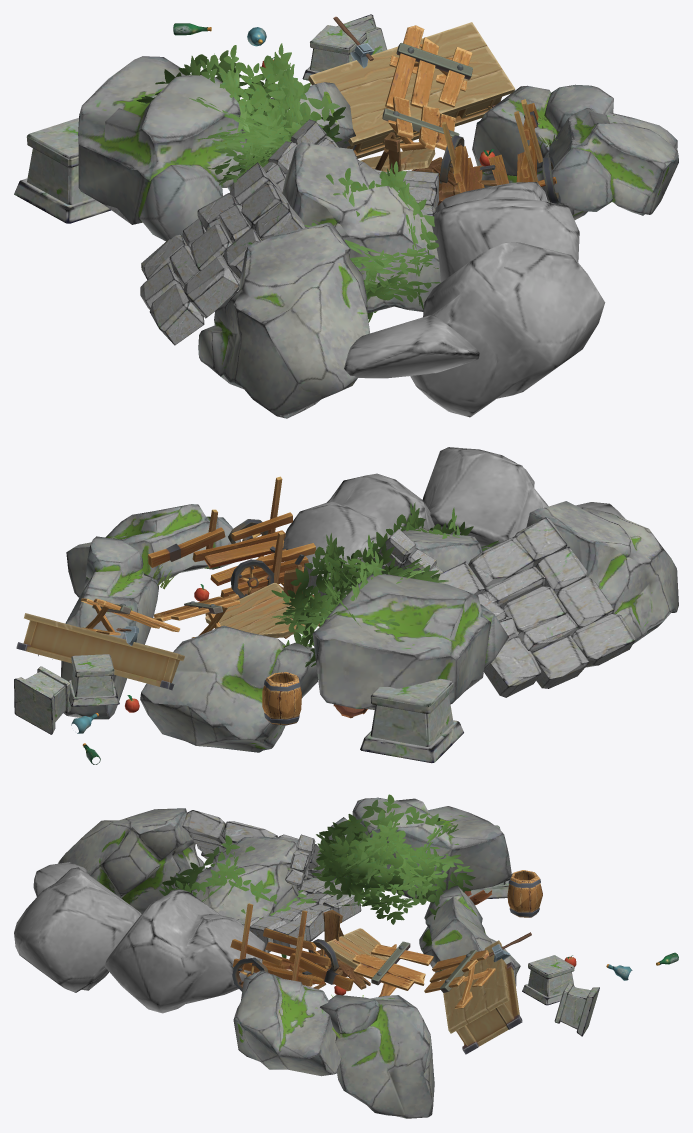
File: MainCityDecor_Tavern_Ruins.glb
The picture shows the model from 3 angles, top to bottom: view 1: azimuth 30°, elevation 25°; view 2: azimuth 150°, elevation 25°; view 3: azimuth 270°, elevation 25°; orthographic projection. The views are drawn at different scales.
Visible parts, largest first — view 1: SM_Gray_Stone_Small_01_LOD0__un91797718654638967, SM_Gray_Stone_Small_03_LOD0__un3192007238892772215, EnvCampsite_Detail__Stone__8_1__u8339313355967505545, EnvCampsite_Detail__Brickwall__2__un2714917057543723895, SM_Gray_Stone_Small_01_LOD0__un8062168838140386167, SM_Gray_Stone_Small_03_LOD0__u8774736984265729161, EnvDetail__Bush___20_14__un40779478230817655, EnvMaincity_Detail__Table___1__u5153780852211655817, EnvCampsite_Detail__Stone__8__u2463987053071574153, EnvCampsite_Detail__Table__2__un1558855194253056887, SM_Gray_Stone_Small_03_LOD0__u4738002444597208201, EnvCampsite_Detail__Stone__9__un2701499769548036983 (+10 smaller); view 2: SM_Gray_Stone_Small_03_LOD0__un3192007238892772215, EnvCampsite_Detail__Brickwall__2__un2714917057543723895, SM_Gray_Stone_Small_03_LOD0__u1834290540938863753, SM_Gray_Stone_Small_01_LOD0__un91797718654638967, EnvCampsite_Detail__Stone__8_1__u8339313355967505545, EnvCampsite_Detail__Stone__8__u2463987053071574153, EnvCampsite_Detail__Cart__1__un7314439637108579191, EnvDetail__Bush___20_14__un40779478230817655, SM_Gray_Stone_Small_03_LOD0__u4738002444597208201, EnvCampsite_Detail__Stele__7_2__u6694120133314421897, SM_Gray_Stone_Small_03_LOD0__u8774736984265729161, EnvMaincity_Detail__Table___1__u5153780852211655817 (+9 smaller); view 3: EnvCampsite_Detail__Stone__8__u2463987053071574153, EnvDetail__Bush___20_14__un40779478230817655, SM_Gray_Stone_Small_03_LOD0__u4738002444597208201, EnvCampsite_Detail__Stone__8_1__u8339313355967505545, SM_Gray_Stone_Small_01_LOD0__un91797718654638967, SM_Gray_Stone_Small_03_LOD0__u8774736984265729161, SM_Gray_Stone_Small_03_LOD0__un3192007238892772215, SM_Gray_Stone_Small_01_LOD0__un8062168838140386167, EnvMaincity_Detail__Table___1__u5153780852211655817, EnvCampsite_Detail__Cart__1__un7314439637108579191, EnvCampsite_Detail__Table__2__un1558855194253056887, SM_Gray_Stone_Small_03_LOD0__u1834290540938863753 (+10 smaller).
Part boxes in pixels (x1,y1,x2,y2): SM_Gray_Stone_Small_01_LOD0__un91797718654638967: [198, 222, 369, 418]; SM_Gray_Stone_Small_03_LOD0__un3192007238892772215: [78, 56, 248, 241]; EnvCampsite_Detail__Stone__8_1__u8339313355967505545: [410, 242, 605, 417]; EnvCampsite_Detail__Brickwall__2__un2714917057543723895: [140, 162, 305, 345]; SM_Gray_Stone_Small_01_LOD0__un8062168838140386167: [282, 142, 440, 313]; SM_Gray_Stone_Small_03_LOD0__u8774736984265729161: [549, 108, 678, 215]; EnvDetail__Bush___20_14__un40779478230817655: [136, 43, 345, 185]; EnvMaincity_Detail__Table___1__u5153780852211655817: [308, 22, 515, 158]; EnvCampsite_Detail__Stone__8__u2463987053071574153: [432, 182, 579, 282]; EnvCampsite_Detail__Table__2__un1558855194253056887: [382, 25, 472, 161]; SM_Gray_Stone_Small_03_LOD0__u4738002444597208201: [472, 84, 613, 220]; EnvCampsite_Detail__Stone__9__un2701499769548036983: [344, 315, 479, 378]; SM_Gray_Stone_Small_03_LOD0__un3192007238892772215: [312, 573, 508, 709]; EnvCampsite_Detail__Brickwall__2__un2714917057543723895: [438, 517, 635, 697]; SM_Gray_Stone_Small_03_LOD0__u1834290540938863753: [140, 625, 317, 752]; SM_Gray_Stone_Small_01_LOD0__un91797718654638967: [526, 501, 678, 643]; EnvCampsite_Detail__Stone__8_1__u8339313355967505545: [422, 447, 548, 548]; EnvCampsite_Detail__Stone__8__u2463987053071574153: [282, 473, 434, 594]; EnvCampsite_Detail__Cart__1__un7314439637108579191: [148, 476, 315, 598]; EnvDetail__Bush___20_14__un40779478230817655: [271, 533, 448, 667]; SM_Gray_Stone_Small_03_LOD0__u4738002444597208201: [61, 536, 158, 719]; EnvCampsite_Detail__Stele__7_2__u6694120133314421897: [360, 678, 463, 763]; SM_Gray_Stone_Small_03_LOD0__u8774736984265729161: [66, 504, 240, 597]; EnvMaincity_Detail__Table___1__u5153780852211655817: [16, 613, 184, 690]; EnvCampsite_Detail__Stone__8__u2463987053071574153: [104, 889, 268, 1013]; EnvDetail__Bush___20_14__un40779478230817655: [311, 794, 475, 924]; SM_Gray_Stone_Small_03_LOD0__u4738002444597208201: [320, 994, 434, 1118]; EnvCampsite_Detail__Stone__8_1__u8339313355967505545: [14, 867, 141, 992]; SM_Gray_Stone_Small_01_LOD0__un91797718654638967: [58, 808, 205, 913]; SM_Gray_Stone_Small_03_LOD0__u8774736984265729161: [233, 970, 341, 1076]; SM_Gray_Stone_Small_03_LOD0__un3192007238892772215: [328, 797, 511, 898]; SM_Gray_Stone_Small_01_LOD0__un8062168838140386167: [191, 836, 300, 952]; EnvMaincity_Detail__Table___1__u5153780852211655817: [441, 940, 522, 1054]; EnvCampsite_Detail__Cart__1__un7314439637108579191: [230, 903, 353, 991]; EnvCampsite_Detail__Table__2__un1558855194253056887: [352, 941, 495, 1008]; SM_Gray_Stone_Small_03_LOD0__u1834290540938863753: [419, 885, 520, 985].
Bounding box in the file's own units: 11.57 × 5.03 × 14.89.
Materials: 15 (15 with a texture image).
